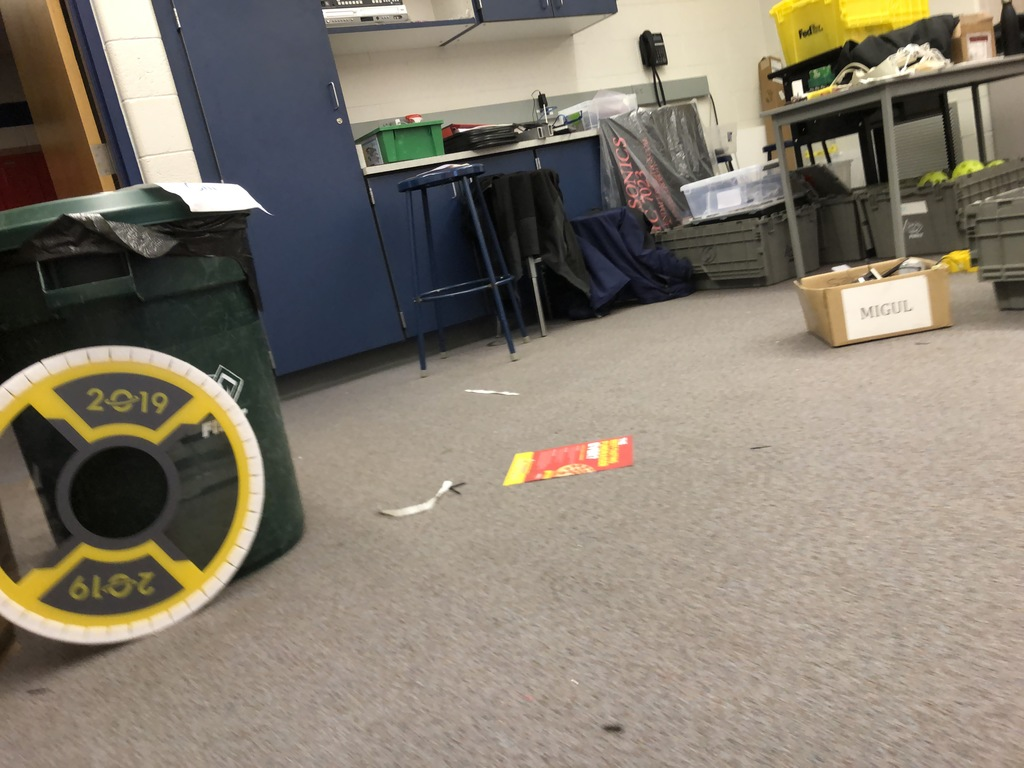hatch_panel: (1, 342, 291, 666)
